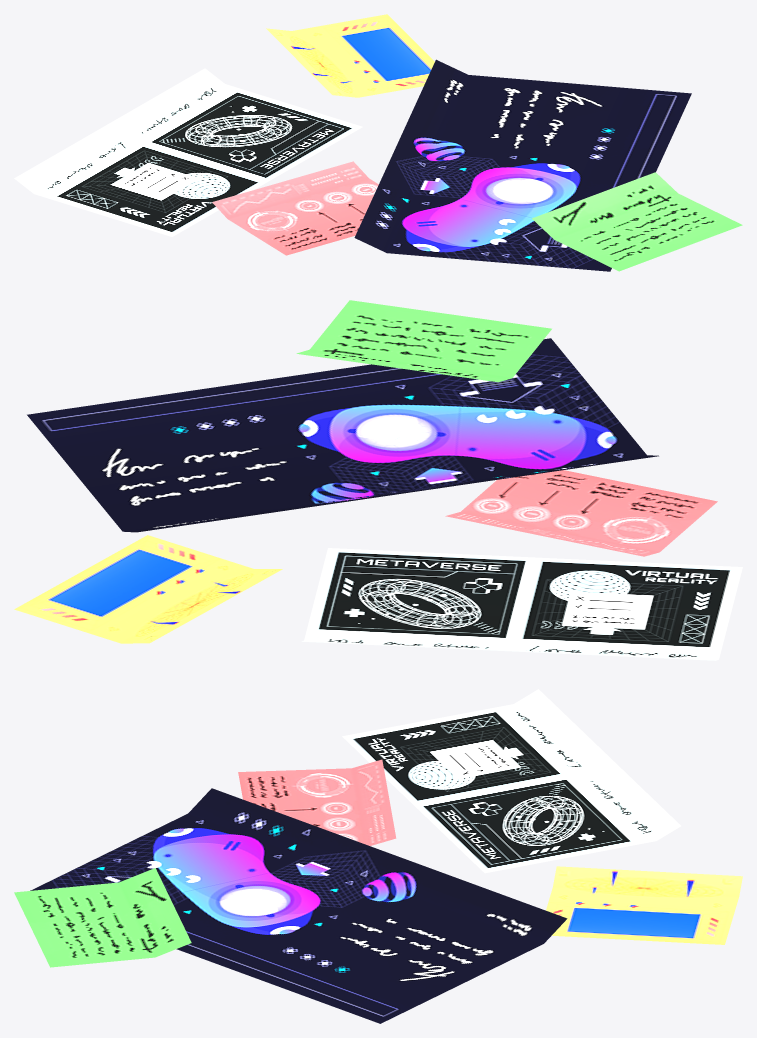
File: obj_stickers01.gltf
The picture shows the model from 3 angles, top to bottom: view 1: azimuth 30°, elevation 25°; view 2: azimuth 150°, elevation 25°; view 3: azimuth 270°, elevation 25°; orthographic projection. The views are drawn at different scales.
Parts seen in each view (by area): view 1: obj_stickers01; view 2: obj_stickers01; view 3: obj_stickers01.
Part boxes in pixels (bbox=[...]): obj_stickers01: bbox=[14, 14, 742, 271]; obj_stickers01: bbox=[14, 300, 742, 660]; obj_stickers01: bbox=[14, 689, 742, 1023].
Size of what is drawn, in the model's own units: 0.9263 by 0.0207 by 0.8808.
Materials: 2 (2 with a texture image).
